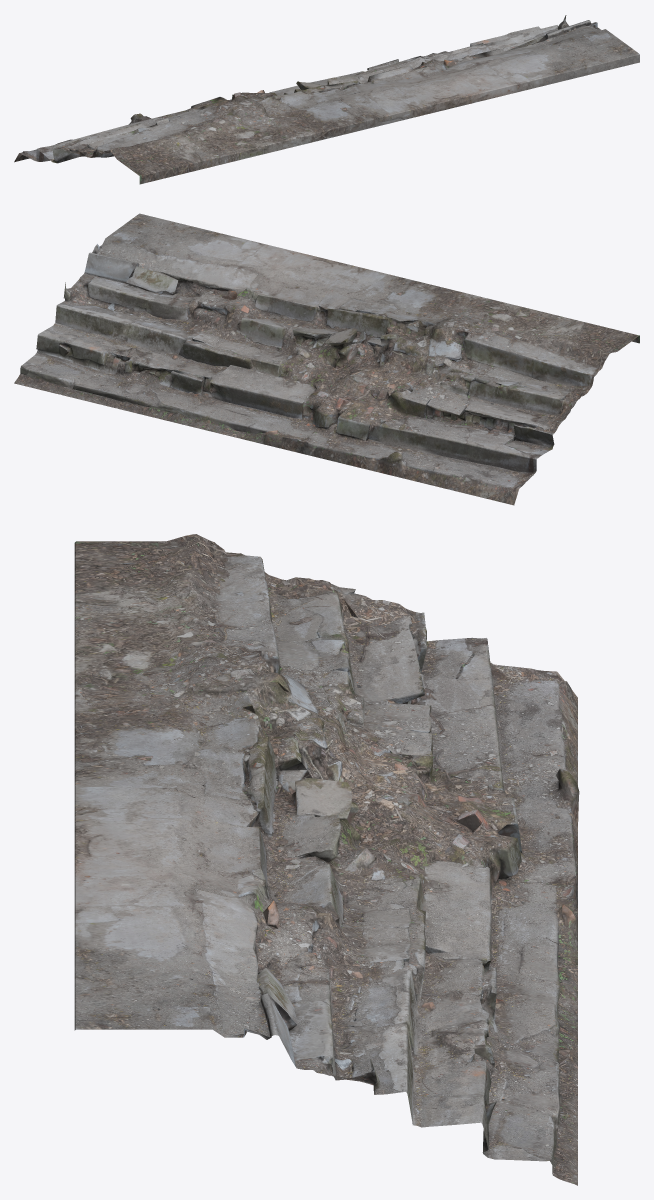
Rendered from SM_Stairs_01_04.fbx.
The picture shows the model from 3 angles, top to bottom: view 1: azimuth 30°, elevation 25°; view 2: azimuth 150°, elevation 25°; view 3: azimuth 270°, elevation 25°; orthographic projection. The views are drawn at different scales.
Visible parts, largest first — view 1: sm_Stairs_01_04_LOD0; view 2: sm_Stairs_01_04_LOD0; view 3: sm_Stairs_01_04_LOD0.
Boxes of the visible parts, box(x1,y1,x2,y2) form: sm_Stairs_01_04_LOD0: box(14, 15, 639, 184); sm_Stairs_01_04_LOD0: box(14, 213, 639, 505); sm_Stairs_01_04_LOD0: box(74, 534, 579, 1185).
Size of the model in its own units: 271 by 620 by 101.
